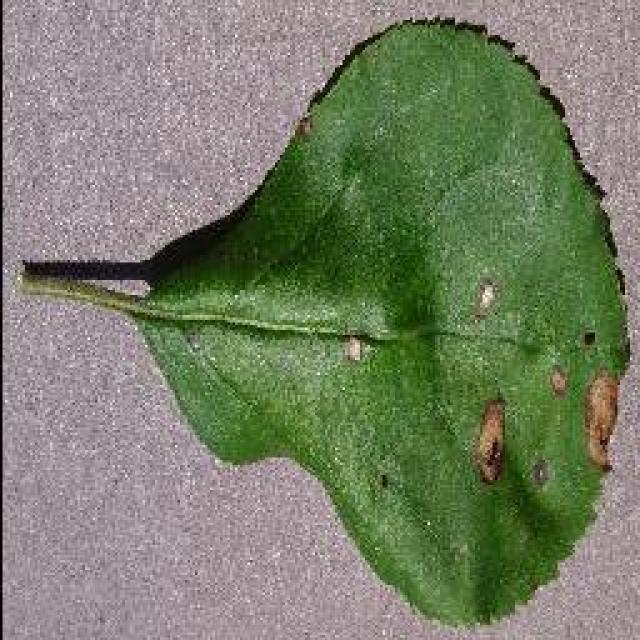Black_rot: (18, 12, 630, 630)
